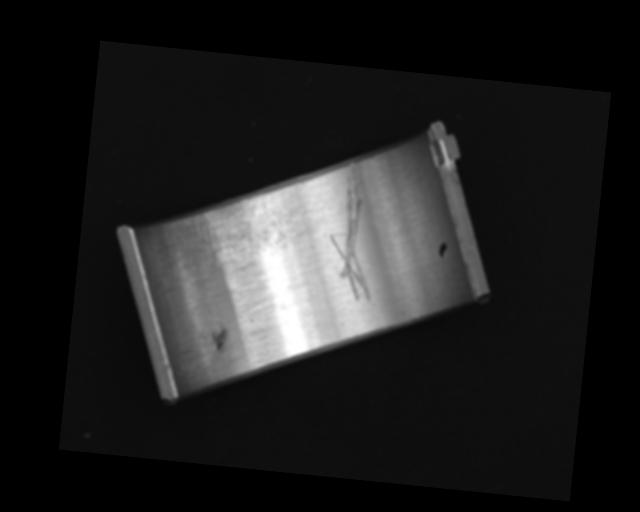blot: (437, 242, 448, 260)
bruise: (208, 325, 229, 353)
nick: (324, 159, 385, 303)
scratch: (176, 182, 301, 278)
